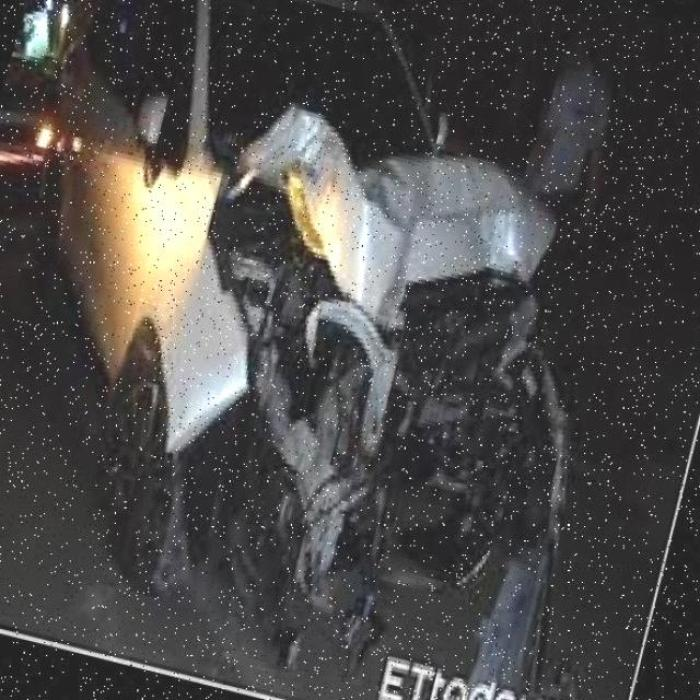Accident: (58, 80, 700, 700)
